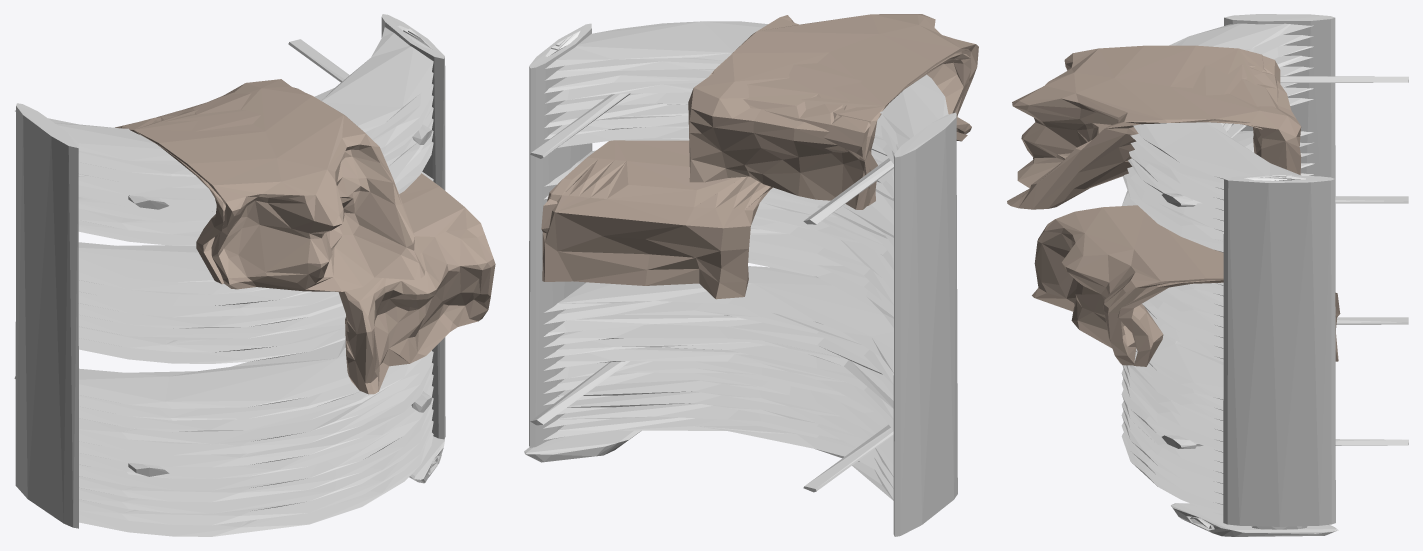
File: sh-bsby-radiator-and-towels.glb
3 views of the same model, side by side, from view 1: azimuth 30°, elevation 25°; view 2: azimuth 150°, elevation 25°; view 3: azimuth 270°, elevation 25° (orthographic). The views are drawn at different scales.
Visible parts, largest first — view 1: heated.tower_Cylinder.002, towel.001_Plane.004; view 2: heated.tower_Cylinder.002, towel.001_Plane.004; view 3: heated.tower_Cylinder.002, towel.001_Plane.004.
Boxes of the visible parts, bbox=[...] form: heated.tower_Cylinder.002: bbox=[14, 14, 445, 536]; towel.001_Plane.004: bbox=[115, 79, 495, 394]; heated.tower_Cylinder.002: bbox=[524, 21, 957, 536]; towel.001_Plane.004: bbox=[541, 14, 978, 299]; heated.tower_Cylinder.002: bbox=[1121, 14, 1408, 536]; towel.001_Plane.004: bbox=[1007, 45, 1340, 366].
Bounding box in the file's own units: 0.9962 × 0.9981 × 0.9995.
